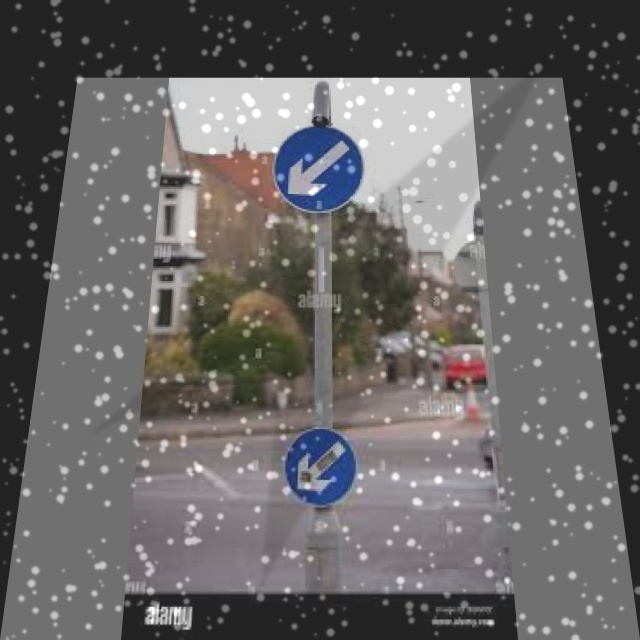Compulsory_Keep_Left: (271, 125, 365, 213)
